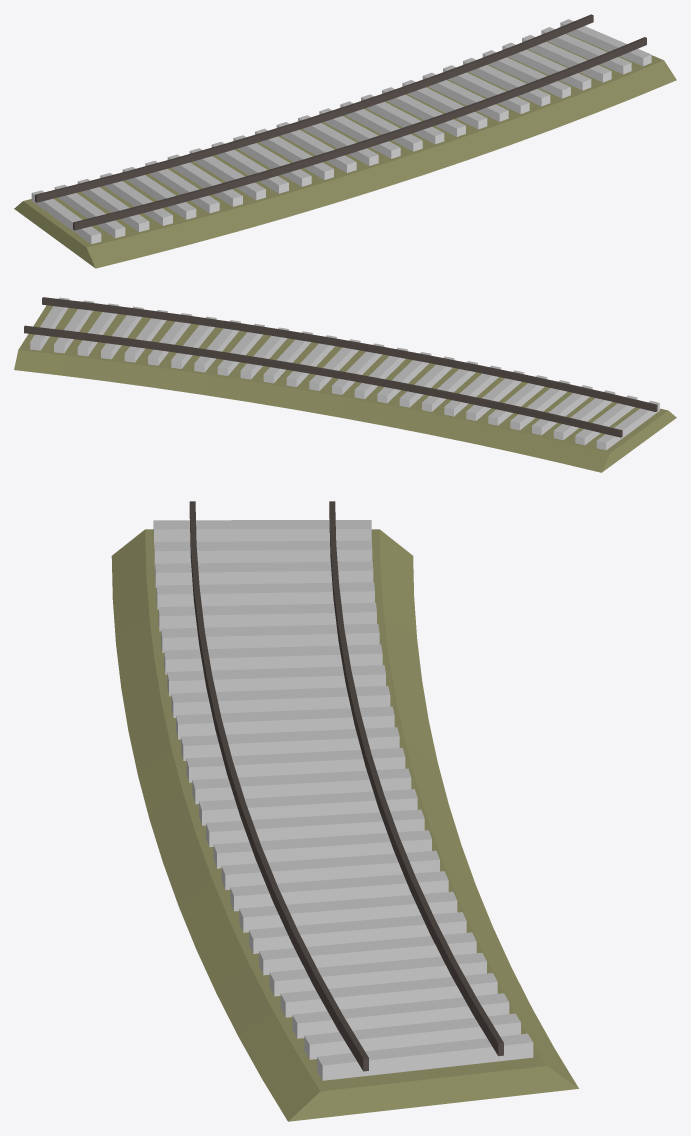
File: SM_Via_CurvaR60_v0_Hormigon_LOD0.fbx
3 views of the same model, one above another, from view 1: azimuth 30°, elevation 25°; view 2: azimuth 150°, elevation 25°; view 3: azimuth 270°, elevation 25° (orthographic). The views are drawn at different scales.
Parts seen in each view (by area): view 1: SM_via_trazado_v10_LOD0; view 2: SM_via_trazado_v10_LOD0; view 3: SM_via_trazado_v10_LOD0.
Boxes of the visible parts, box(x1,y1,x2,y2) form: SM_via_trazado_v10_LOD0: box(14, 14, 676, 268); SM_via_trazado_v10_LOD0: box(14, 297, 676, 472); SM_via_trazado_v10_LOD0: box(111, 501, 578, 1121).
Bounding box in the file's own units: 16 × 0.72 × 5.58.
